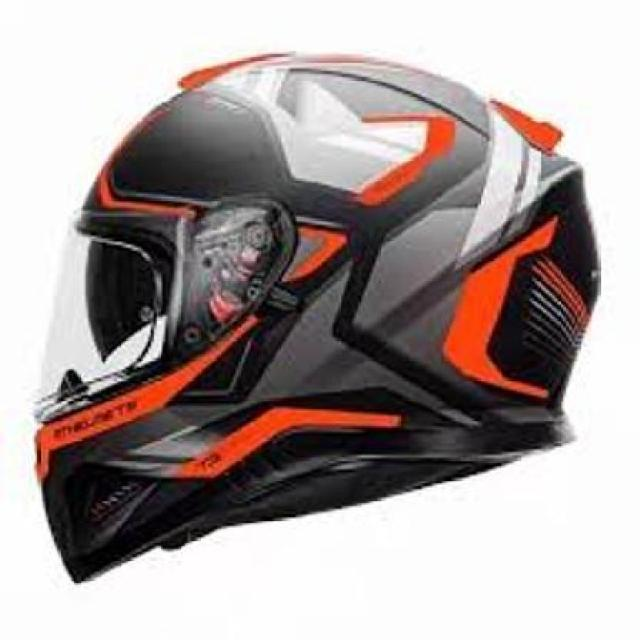not trash: (25, 51, 603, 584)
